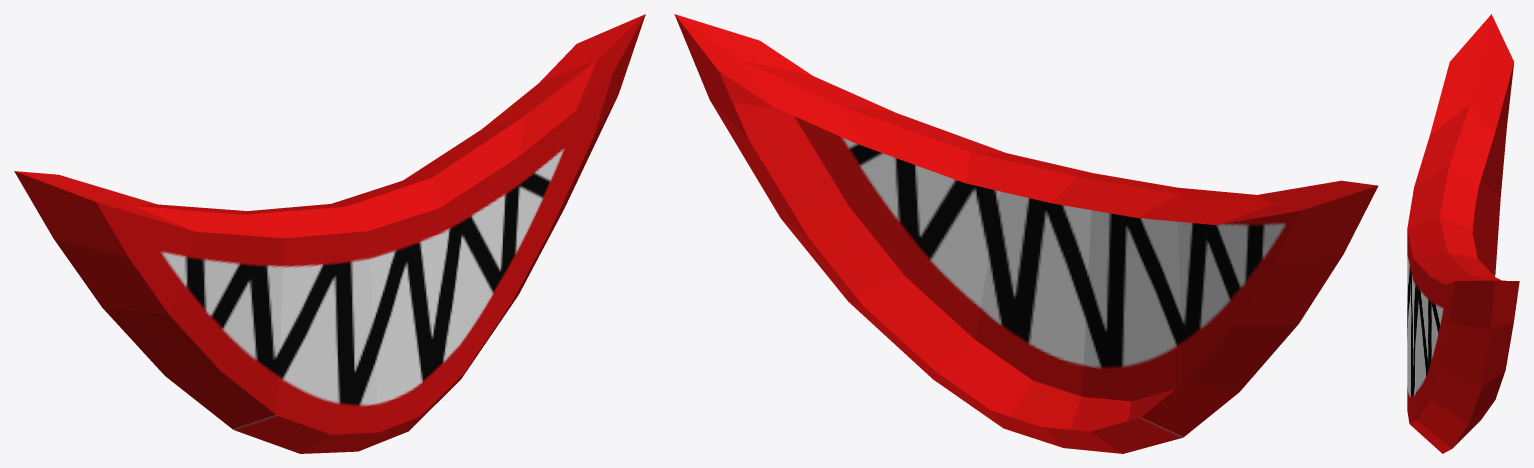
The model's file is mouth_05.fbx.
The picture shows the model from 3 angles, left to right: view 1: azimuth 30°, elevation 25°; view 2: azimuth 150°, elevation 25°; view 3: azimuth 270°, elevation 25°; orthographic projection. The views are drawn at different scales.
Visible parts, largest first — view 1: Mouth_05; view 2: Mouth_05; view 3: Mouth_05.
Boxes of the visible parts, x1=… form: Mouth_05: x1=14, y1=14, x2=645, y2=453; Mouth_05: x1=674, y1=14, x2=1378, y2=453; Mouth_05: x1=1407, y1=14, x2=1519, y2=453.
Bounding box in the file's own units: 58.36 × 29.63 × 10.36.
